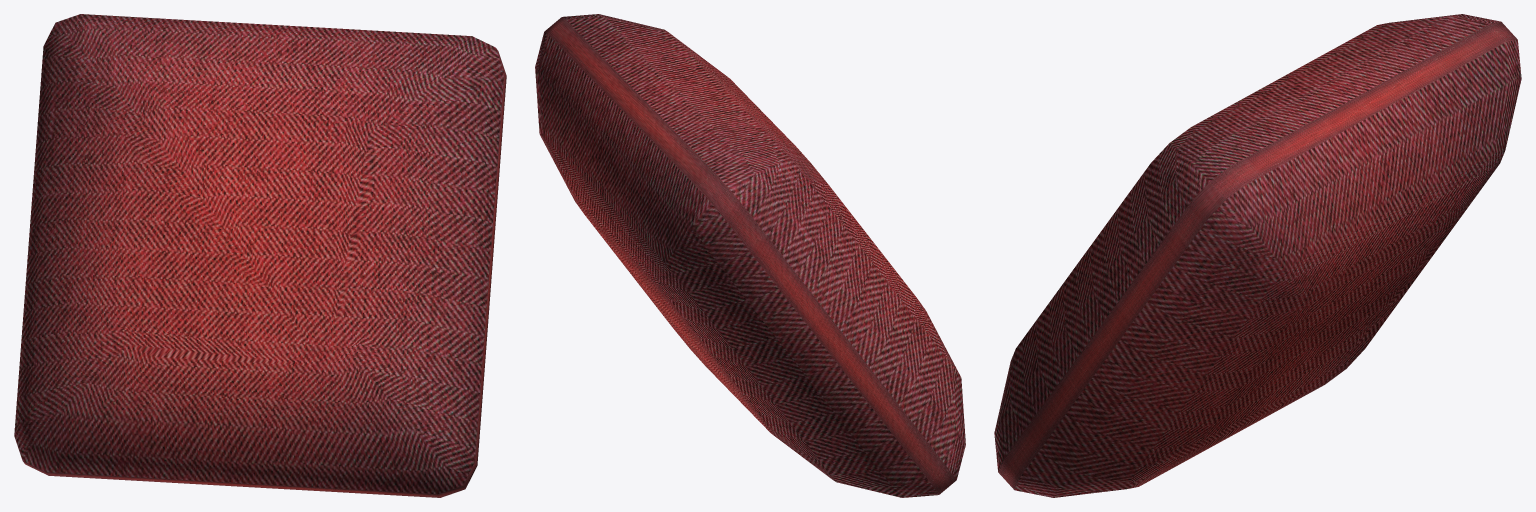
Rendered from Sofá - almofadas.fbx.
3 renders of one model, left to right at view 1: azimuth 30°, elevation 25°; view 2: azimuth 150°, elevation 25°; view 3: azimuth 270°, elevation 25°, orthographic. The views are drawn at different scales.
Visible parts, largest first — view 1: Cube.046; view 2: Cube.046; view 3: Cube.046.
Boxes of the visible parts, x1=… form: Cube.046: x1=14, y1=14, x2=506, y2=497; Cube.046: x1=535, y1=14, x2=965, y2=497; Cube.046: x1=994, y1=14, x2=1521, y2=497.
Size of the model in its own units: 155 by 122 by 148.
